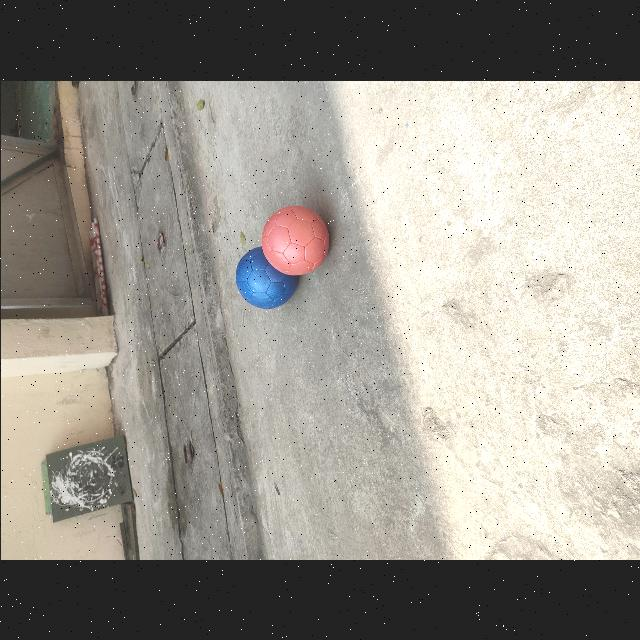B: (235, 246, 296, 309)
R: (261, 205, 328, 274)
